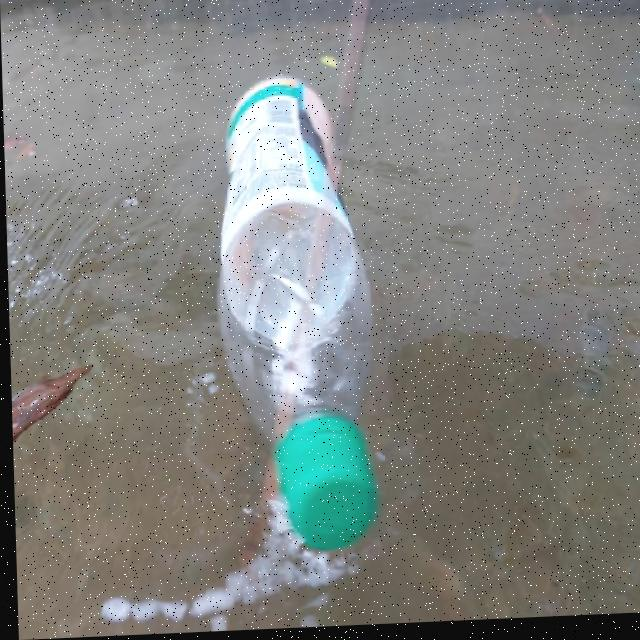leaf: (8, 350, 102, 499)
waterbottle: (141, 62, 457, 572)
